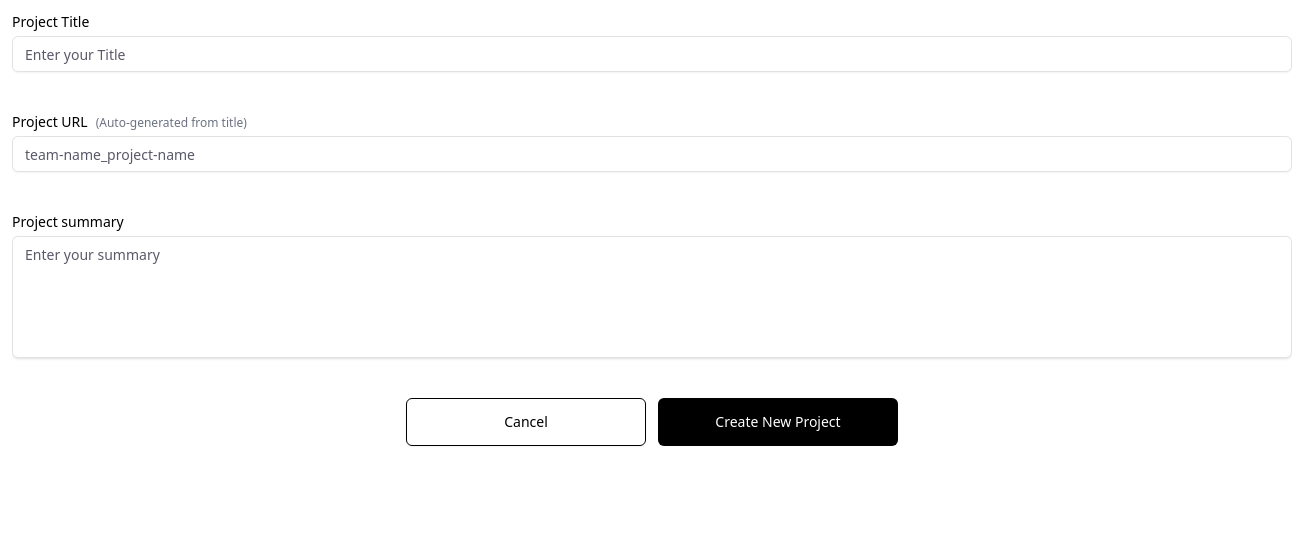
Test: ProjectForm - 통합 테스트 › 유효성 검증 › 필수 필드가 비어있으면 에러 메시지가 표시된다
# 빈 폼으로 제출
Click the button "Create New Project" at point(778, 422), box [658, 398, 898, 446]
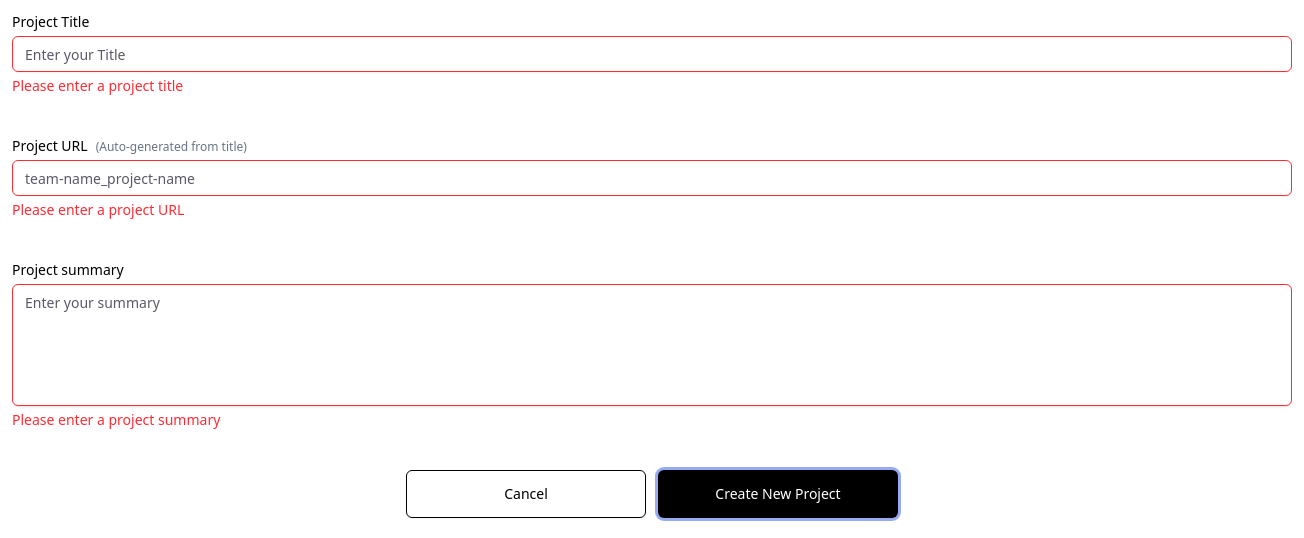
Check: the text "Please enter a project title" is shown, box [12, 76, 183, 95]
Check: the text "Please enter a project URL" is shown, box [12, 200, 184, 219]
Check: the text "Please enter a project summary" is shown, box [12, 410, 220, 429]
